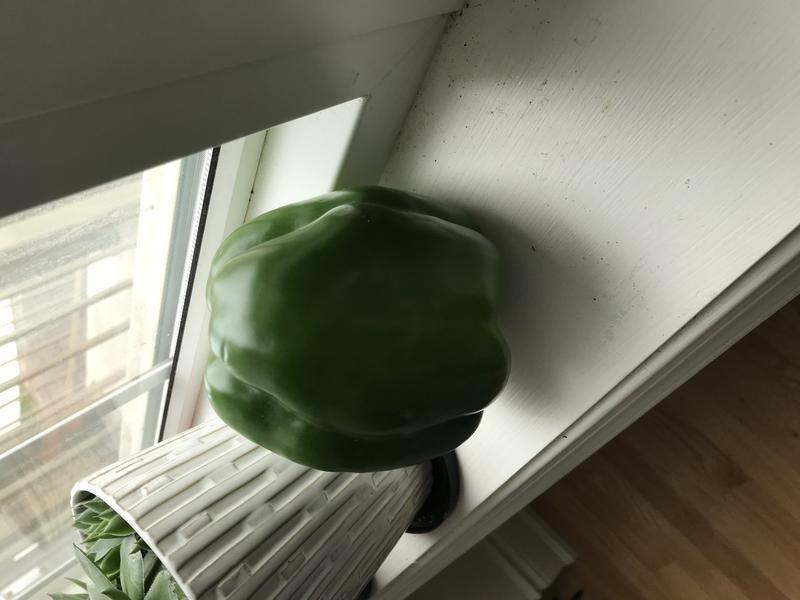green_pepper: (195, 175, 518, 484)
